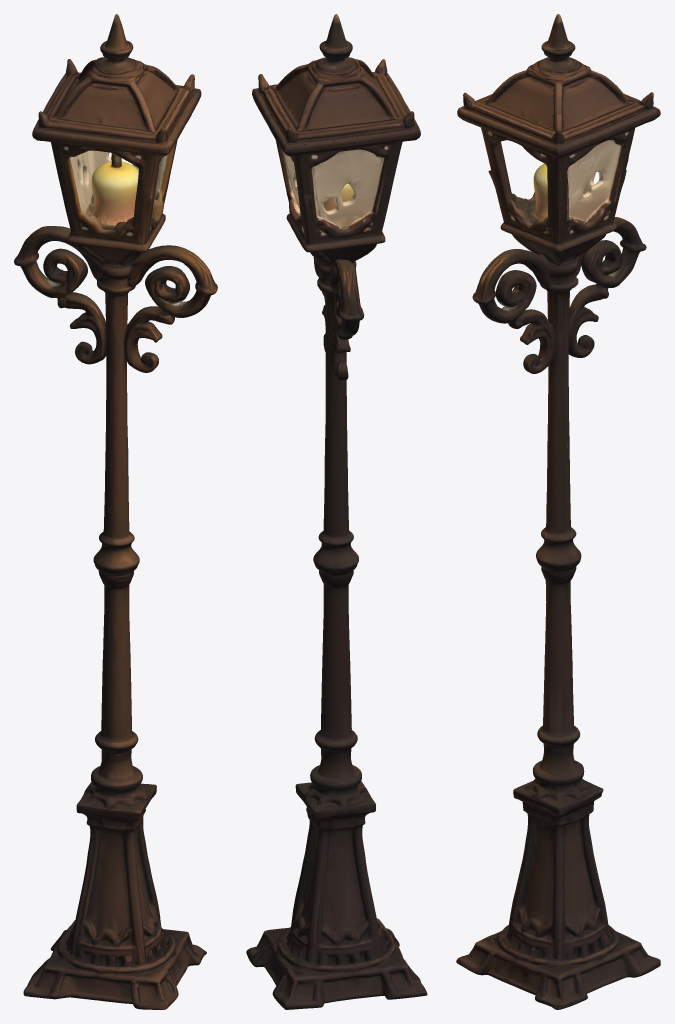
The model's file is lamp_post.glb.
3 views of the same model, side by side, from view 1: azimuth 30°, elevation 25°; view 2: azimuth 150°, elevation 25°; view 3: azimuth 270°, elevation 25° (orthographic).
Visible parts, largest first — view 1: geometry_0; view 2: geometry_0; view 3: geometry_0.
Part boxes in pixels (x1,y1,x2,y2): geometry_0: (14, 14, 217, 1009); geometry_0: (246, 14, 427, 1009); geometry_0: (456, 14, 660, 1009).
Bounding box in the file's own units: 0.6897 × 3.5 × 0.6805.
1 material, 1 textured.
